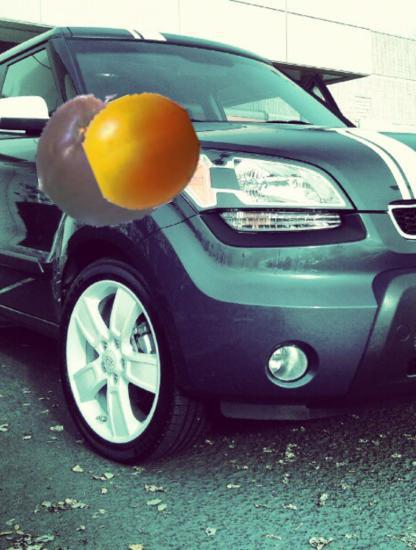Cherry: (86, 93, 202, 209)
Passion: (36, 89, 177, 230)
